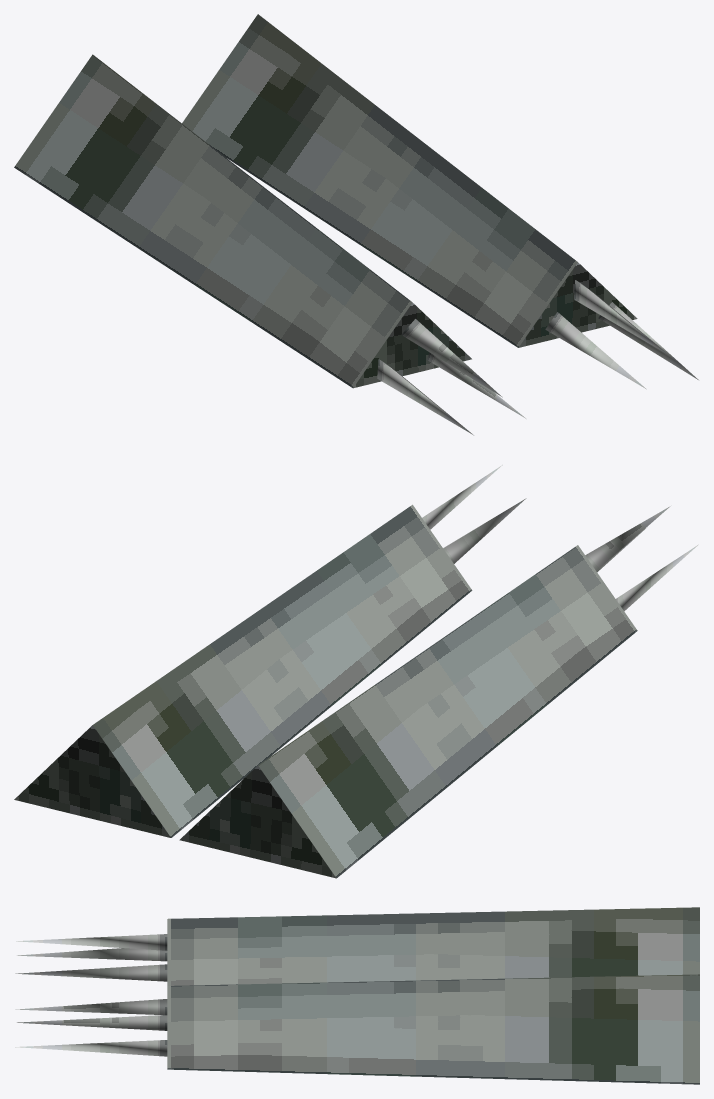
The model's file is bwing_weapon3_s04_l3.fbx.
The picture shows the model from 3 angles, top to bottom: view 1: azimuth 30°, elevation 25°; view 2: azimuth 150°, elevation 25°; view 3: azimuth 270°, elevation 25°; orthographic projection. The views are drawn at different scales.
Parts seen in each view (by area): view 1: mesh_node; view 2: mesh_node; view 3: mesh_node.
Part boxes in pixels (box(x1,y1,x2,y2)): mesh_node: box(14, 14, 698, 435); mesh_node: box(14, 465, 698, 878); mesh_node: box(15, 907, 699, 1084).
Bounding box in the file's own units: 1.2 × 0.3328 × 2.64.
Materials: 1 (1 with a texture image).
